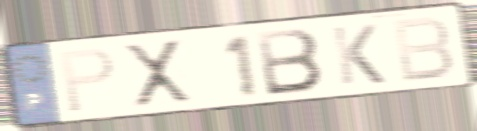1: (222, 33, 259, 99)
B: (253, 26, 326, 99), (389, 14, 457, 85)
K: (329, 22, 388, 88)
P: (57, 46, 118, 116)
X: (120, 37, 196, 111)
